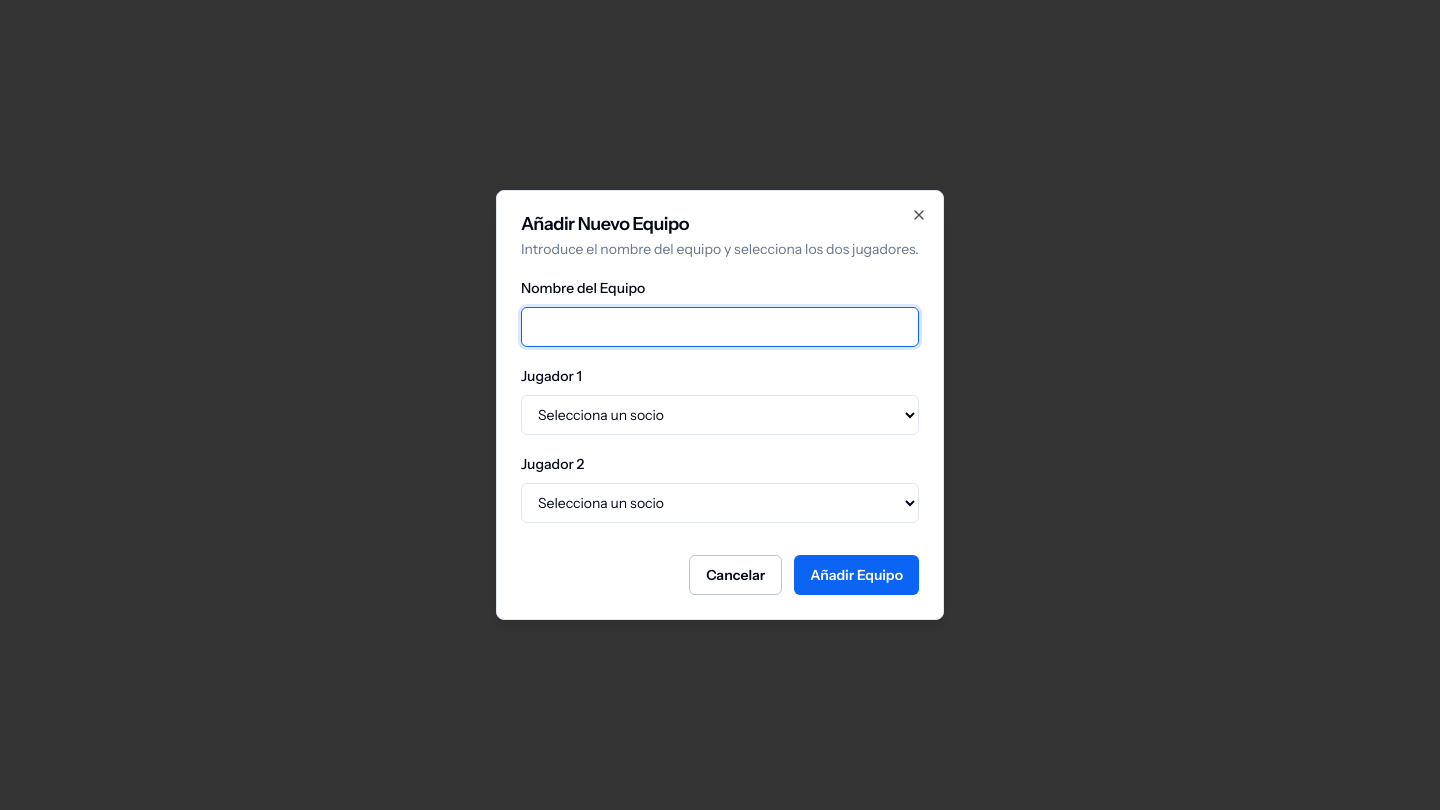
AddTeamModal › muestra el error específico devuelto por la API
Type "Los Globos" into the field labelled "Nombre del Equipo" at (720, 327), box [521,307,919,347]
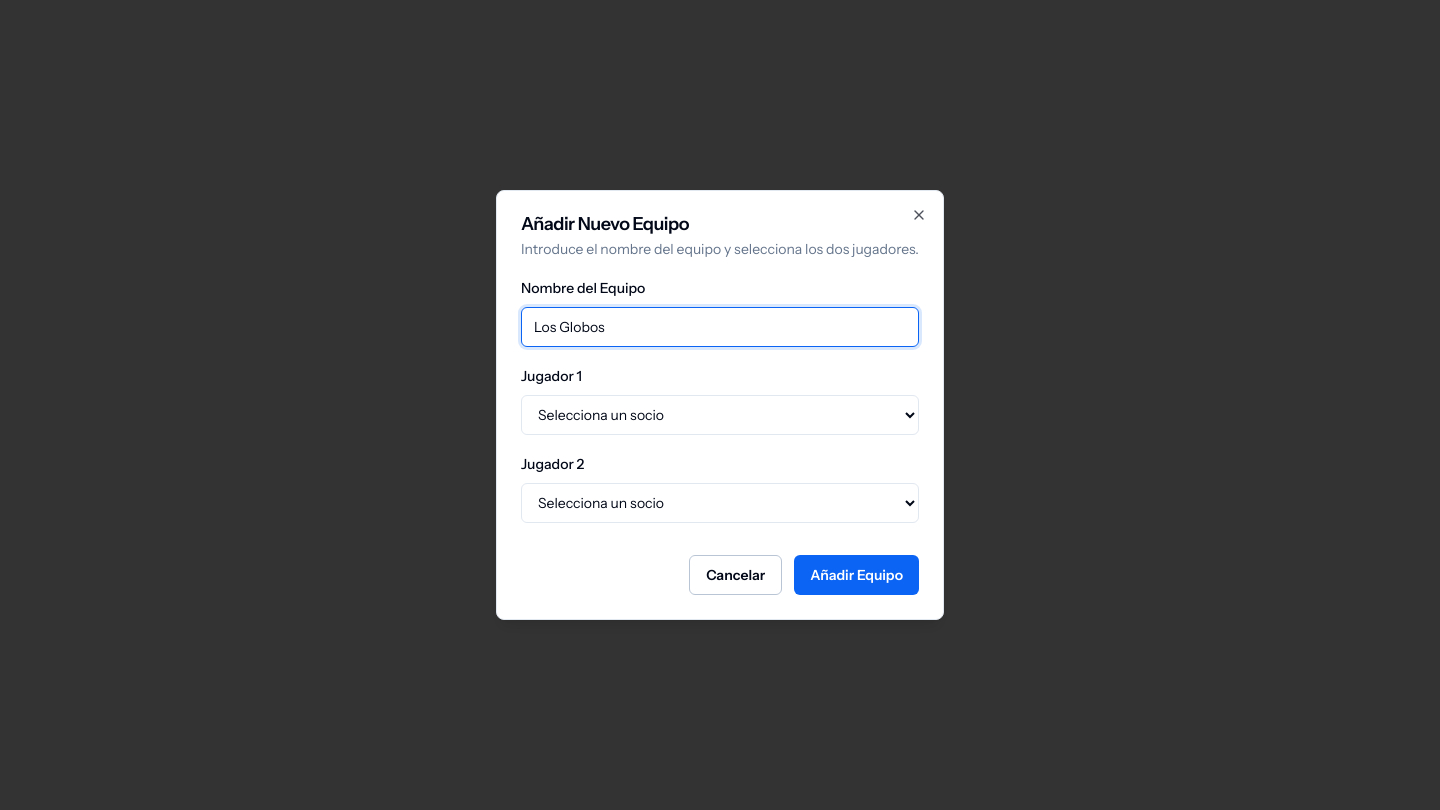
Select "Ana" in the dropdown labelled "Jugador 1" at (720, 415), box [521,395,919,435]
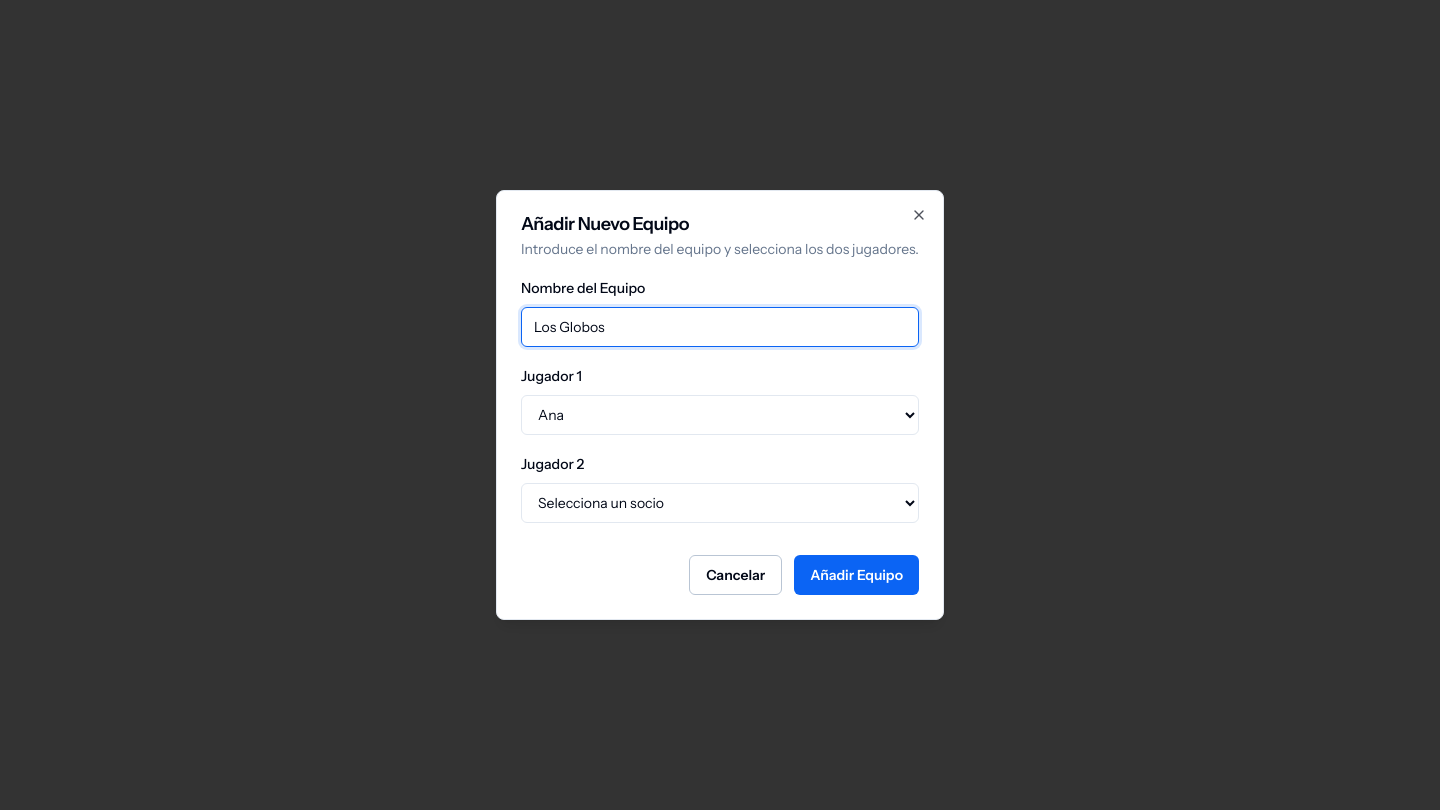
Select "Luis" in the dropdown labelled "Jugador 2" at (720, 503), box [521,483,919,523]
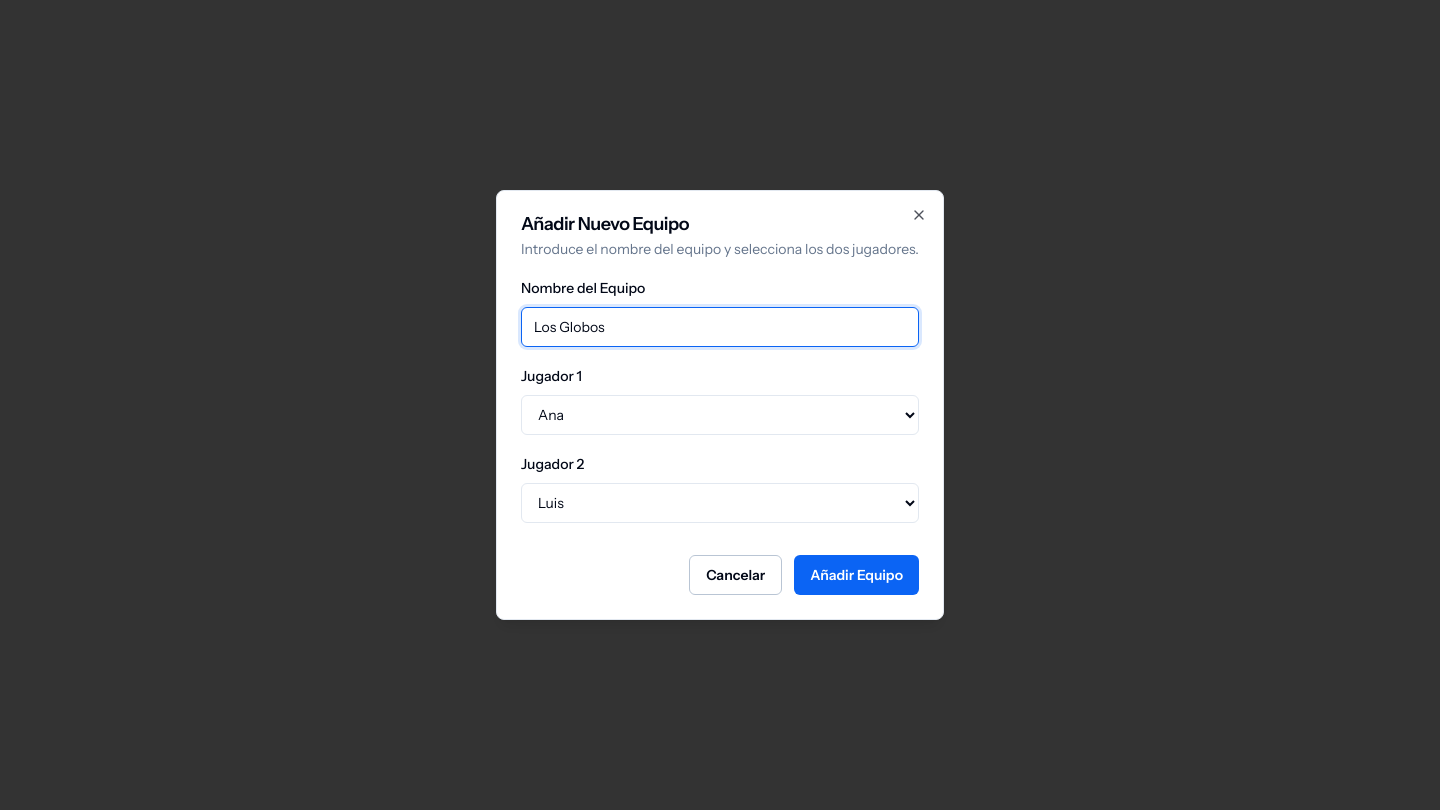
Click the button "Añadir Equipo" at (857, 575), box [794,555,919,595]
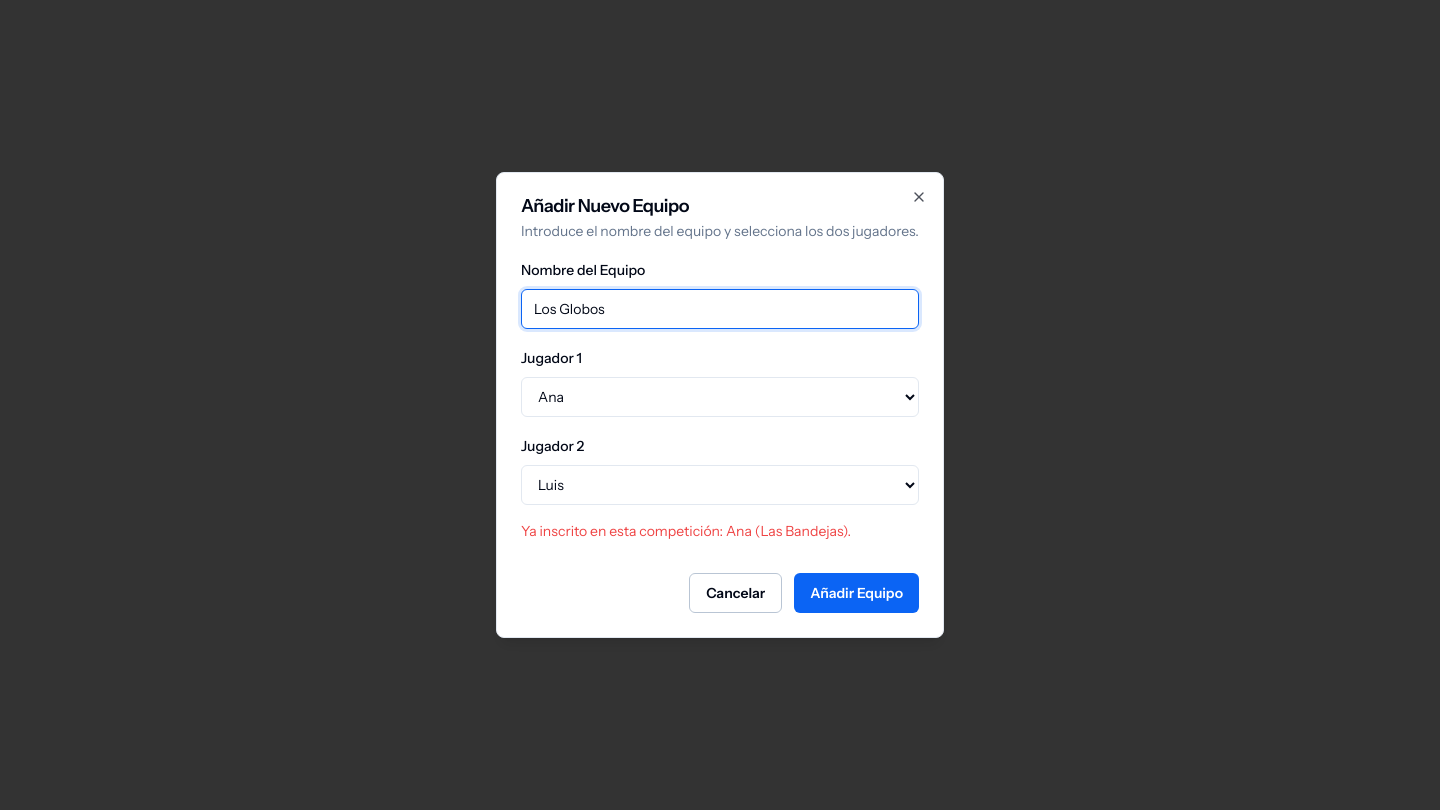
Check: the message reads "Ya inscrito en esta competición: Ana (Las Bandejas).", box [521,522,851,540]
